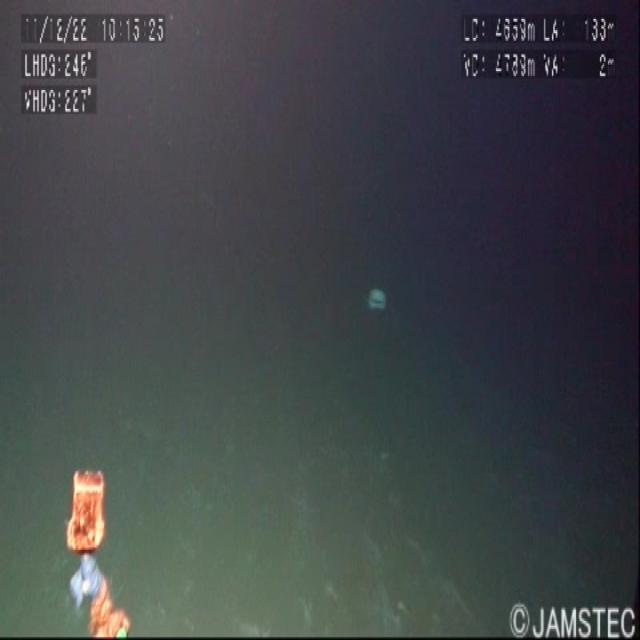Litter: (340, 250, 426, 372)
